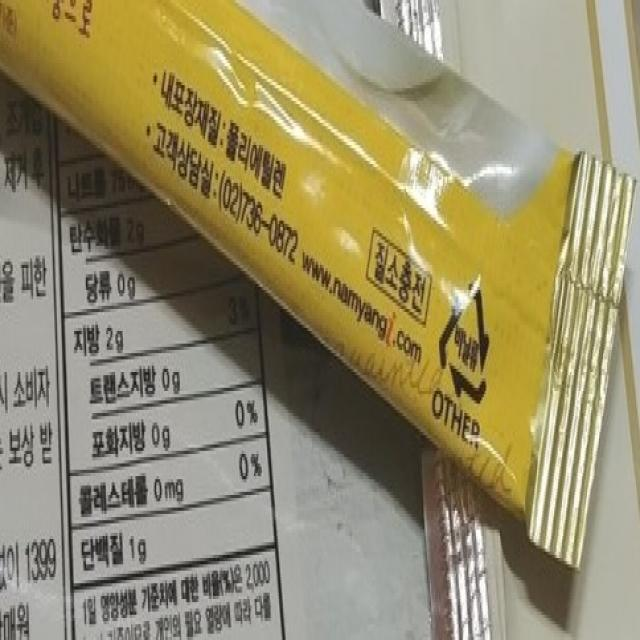Vinyl: (437, 274, 491, 412)
